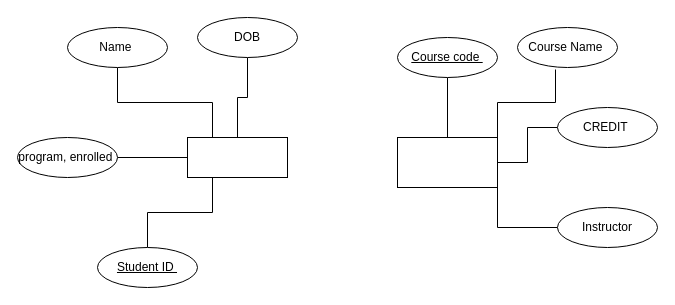
This 675x305 diagram has some shape labels left out. The centre of each missing label's shape, as x and y in pixels:
"Courses" goes at (x=447, y=162).
"Students" goes at (x=237, y=157).
